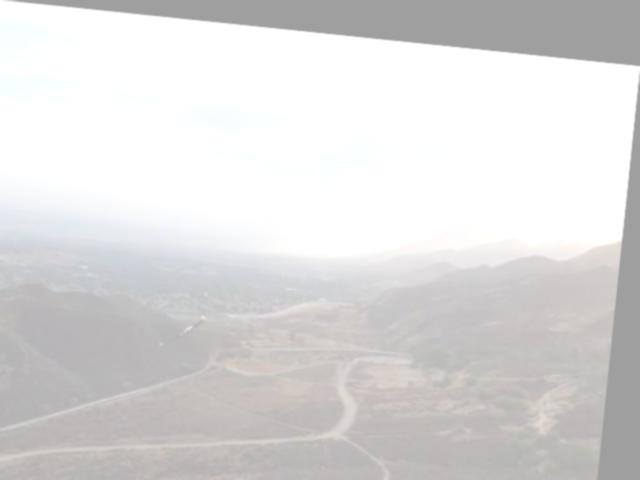iha: (166, 306, 213, 346)
